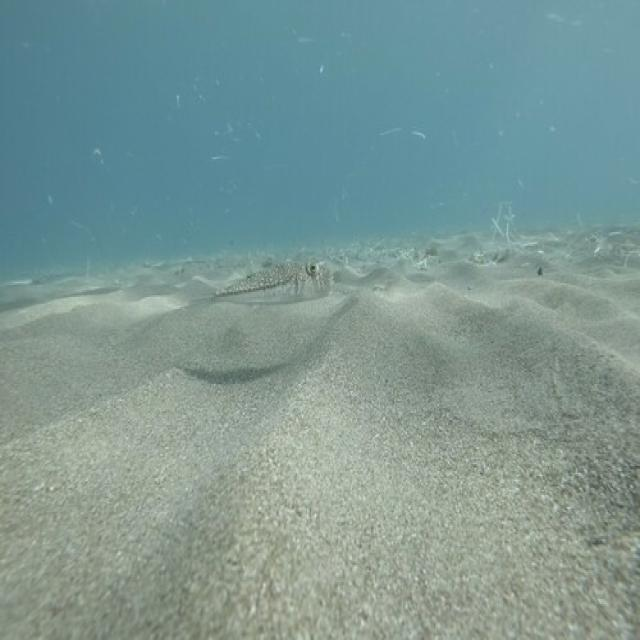Balik: (214, 262, 331, 303)
